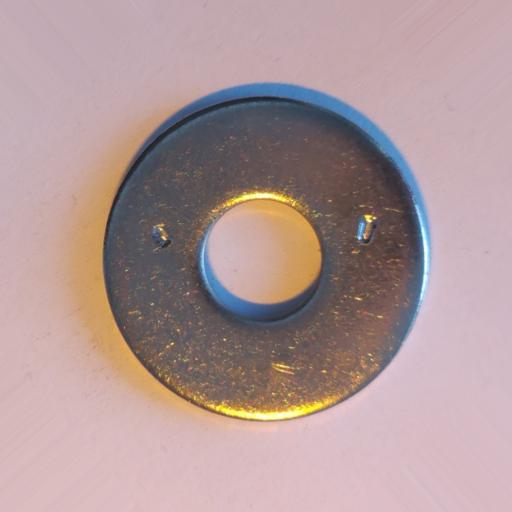circular_cavity: (354, 214, 379, 245), (151, 223, 174, 248)
